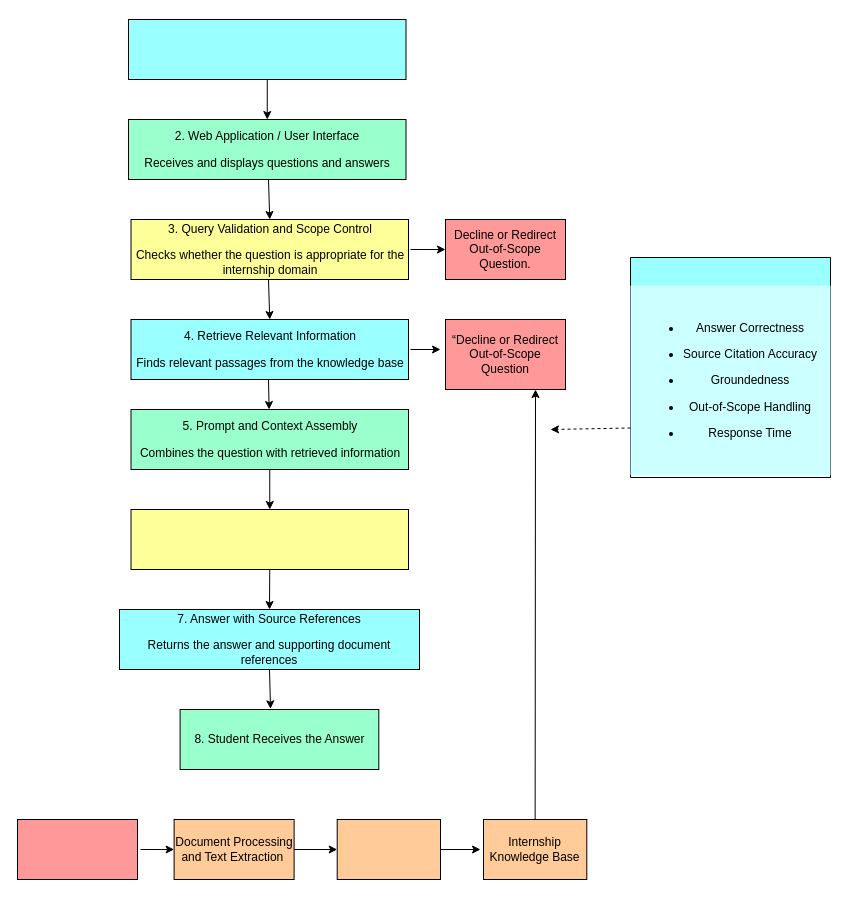
The diagram is 848 pixels wide and 897 high, and some of its shapes have lost their labels. The shapes that lost their labels are listed below. From the top down, each one's box as (x1, y1, x2, y2) in pixels, then its label:
(128, 18, 406, 80): 1. Student Asks an internship-related question
(630, 256, 830, 478): Evaluation and Testing
(130, 508, 408, 570): 6. Language Model Service Generates an answer based on the provided context
(16, 818, 138, 880): Official internship documents (PDFs or other supported files)
(336, 818, 440, 880): Chunking and Indexing
